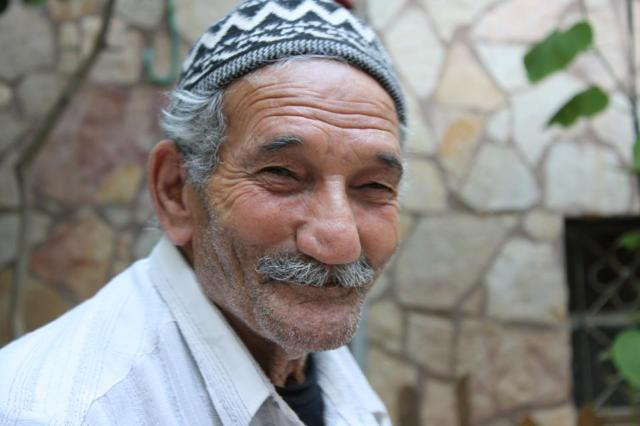crows_feet: (226, 165, 252, 197), (384, 187, 398, 211)
forehead: (323, 96, 359, 136), (364, 97, 394, 139), (245, 85, 279, 121), (282, 87, 312, 125)
